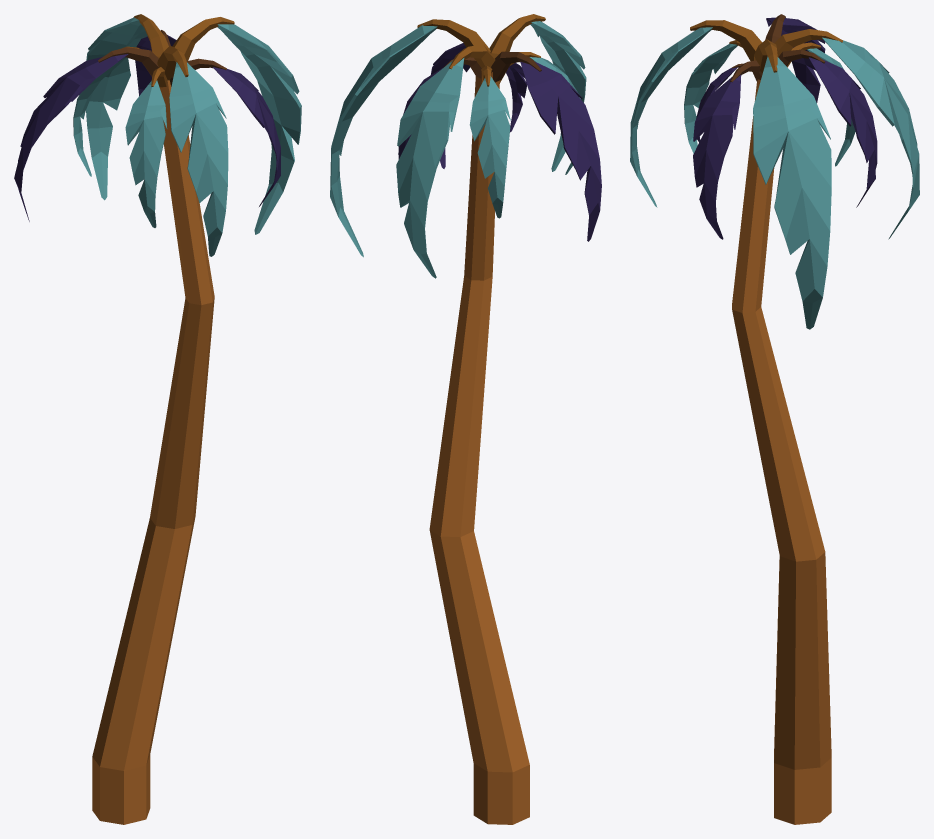
Rendered from FBX Boom 1 Fixed.fbx.
3 views of the same model, side by side, from view 1: azimuth 30°, elevation 25°; view 2: azimuth 150°, elevation 25°; view 3: azimuth 270°, elevation 25° (orthographic). The views are drawn at different scales.
Visible parts, largest first — view 1: Middel palmboom, OG goed palmblad.031, OG goed palmblad.029, OG goed palmblad.028, OG goed palmblad.033, OG goed palmblad.027, OG goed palmblad.030, OG goed palmblad.034, Stem Palm blad.015, Stem Palm blad.009, Stem Palm blad.016, Stem Palm blad.017 (+1 smaller); view 2: Middel palmboom, OG goed palmblad.028, OG goed palmblad.027, OG goed palmblad.029, OG goed palmblad.034, OG goed palmblad.031, Stem Palm blad.016, OG goed palmblad.035, Stem Palm blad.015, Stem Palm blad.009, Stem Palm blad.017, OG goed palmblad.030; view 3: Middel palmboom, OG goed palmblad.029, OG goed palmblad.030, OG goed palmblad.028, OG goed palmblad.032, OG goed palmblad.031, OG goed palmblad.033, OG goed palmblad.027, Stem Palm blad.016, Stem Palm blad.017, Stem Palm blad.015, OG goed palmblad.034.
Boxes of the visible parts, bbox=[...] form: Middel palmboom: bbox=[92, 80, 214, 824]; OG goed palmblad.031: bbox=[169, 62, 228, 256]; OG goed palmblad.029: bbox=[217, 24, 301, 234]; OG goed palmblad.028: bbox=[86, 17, 147, 200]; OG goed palmblad.033: bbox=[125, 80, 167, 227]; OG goed palmblad.027: bbox=[14, 54, 128, 221]; OG goed palmblad.030: bbox=[212, 67, 280, 206]; OG goed palmblad.034: bbox=[73, 57, 126, 176]; Stem Palm blad.015: bbox=[172, 17, 234, 60]; Stem Palm blad.009: bbox=[98, 47, 158, 76]; Stem Palm blad.016: bbox=[157, 45, 188, 80]; Stem Palm blad.017: bbox=[133, 14, 168, 57]; Middel palmboom: bbox=[429, 72, 529, 824]; OG goed palmblad.028: bbox=[396, 58, 464, 278]; OG goed palmblad.027: bbox=[520, 61, 601, 241]; OG goed palmblad.029: bbox=[330, 25, 437, 257]; OG goed palmblad.034: bbox=[469, 76, 510, 218]; OG goed palmblad.031: bbox=[530, 21, 586, 171]; Stem Palm blad.016: bbox=[489, 14, 545, 58]; OG goed palmblad.035: bbox=[506, 62, 526, 132]; Stem Palm blad.015: bbox=[417, 19, 490, 52]; Stem Palm blad.009: bbox=[491, 51, 541, 82]; Stem Palm blad.017: bbox=[449, 44, 495, 69]; OG goed palmblad.030: bbox=[431, 43, 470, 168]; Middel palmboom: bbox=[732, 79, 831, 824]; OG goed palmblad.029: bbox=[753, 56, 831, 329]; OG goed palmblad.030: bbox=[693, 74, 741, 239]; OG goed palmblad.028: bbox=[822, 37, 919, 239]; OG goed palmblad.032: bbox=[808, 57, 877, 207]; OG goed palmblad.031: bbox=[630, 27, 712, 207]; OG goed palmblad.033: bbox=[684, 43, 737, 153]; OG goed palmblad.027: bbox=[766, 17, 825, 102]; Stem Palm blad.016: bbox=[690, 20, 761, 61]; Stem Palm blad.017: bbox=[774, 29, 842, 56]; Stem Palm blad.015: bbox=[754, 39, 777, 72]; OG goed palmblad.034: bbox=[807, 48, 855, 166].
Bounding box in the file's own units: 236 × 645 × 211.
